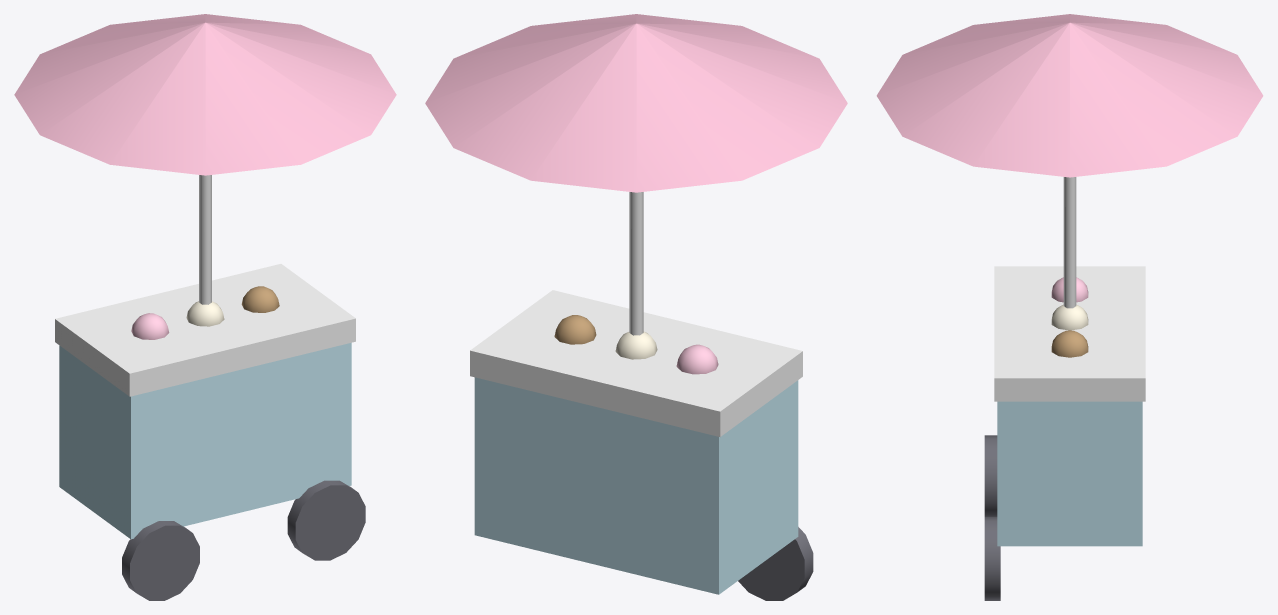
The model's file is gerobak_es.glb.
3 views of the same model, side by side, from view 1: azimuth 30°, elevation 25°; view 2: azimuth 150°, elevation 25°; view 3: azimuth 270°, elevation 25° (orthographic). The views are drawn at different scales.
Visible parts, largest first — view 1: gerobak_es; view 2: gerobak_es; view 3: gerobak_es.
Part boxes in pixels (bbox=[...]): gerobak_es: bbox=[14, 14, 396, 600]; gerobak_es: bbox=[425, 14, 847, 600]; gerobak_es: bbox=[876, 14, 1263, 600].
Size of the model in its own units: 1.2 by 1.82 by 1.2.
